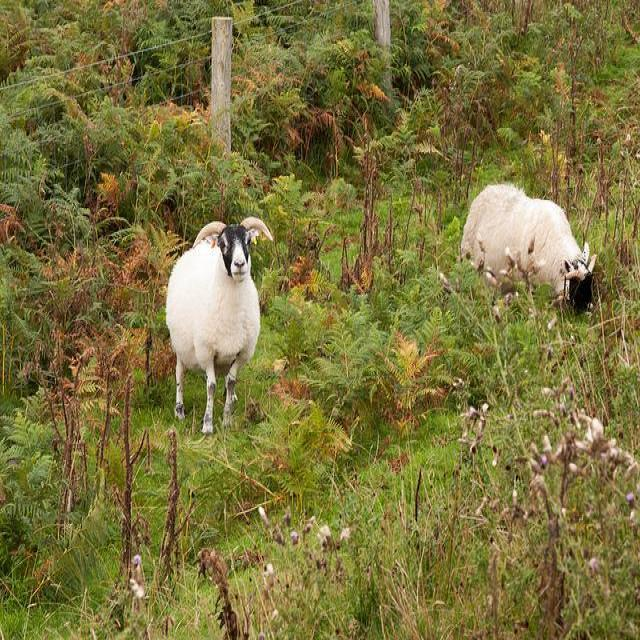Sheep: (167, 217, 274, 435), (459, 187, 597, 313)
